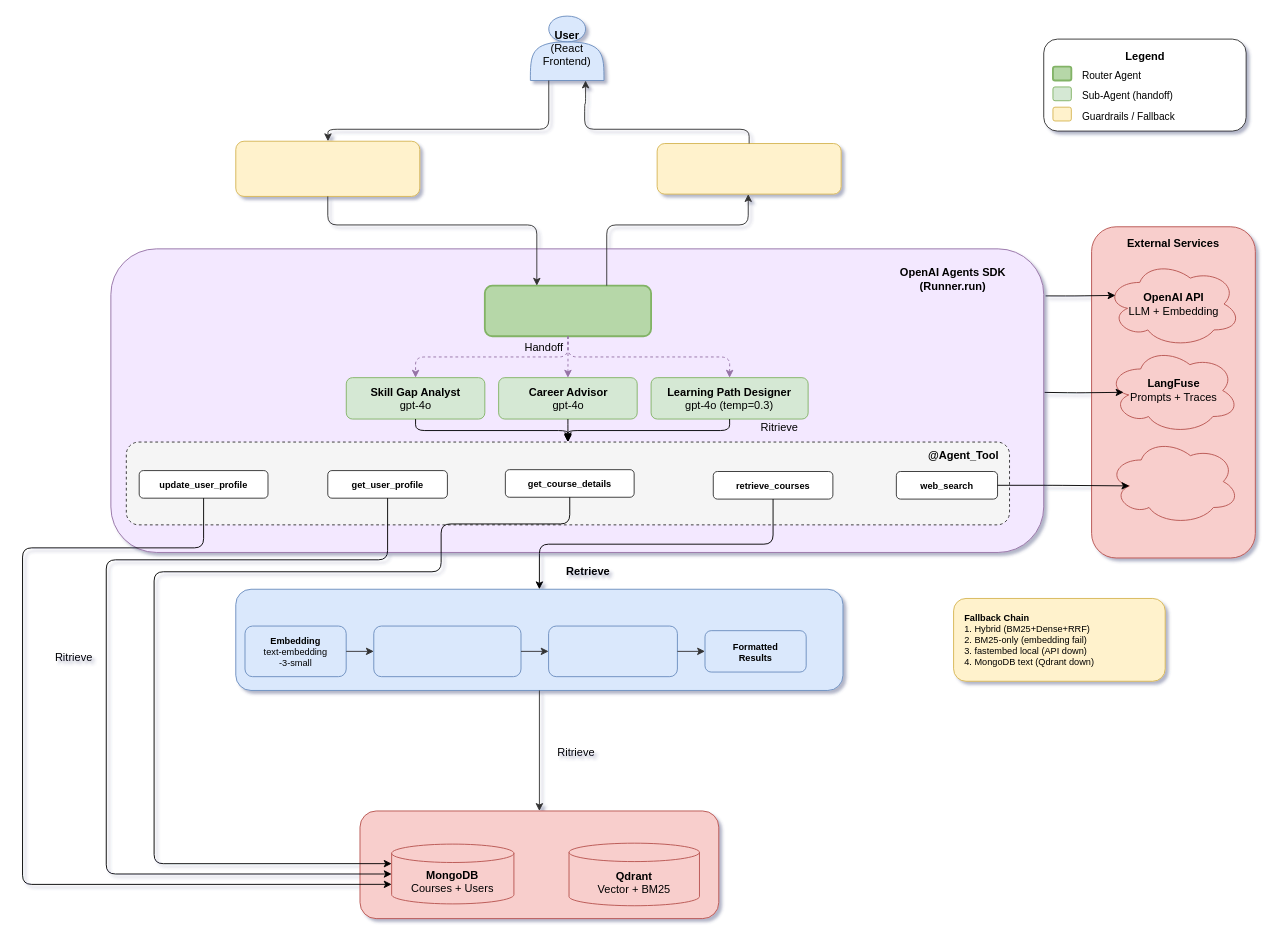
The diagram is 1277 pixels wide and 940 high, and some of its shapes have lost their labels. Each missing label, with the box of its shape:
Cross-Encoder Reranker fastembed MiniLM: (548, 625, 677, 677)
Data Layer: (359, 810, 719, 919)
Hybrid Search Qdrant Query API BM25 + Dense + RRF: (373, 625, 521, 677)
Input Guardrails Injection detection · Topic relevance · PII redaction: (235, 140, 420, 196)
Internet: (1107, 437, 1240, 525)
Learning Advisor Router Agent · gpt-4o: (483, 284, 652, 337)
Output Guardrails PII redaction · Stack trace removal: (656, 143, 841, 194)
Retrieval Pipeline (inside retrieve_courses): (235, 588, 843, 690)
